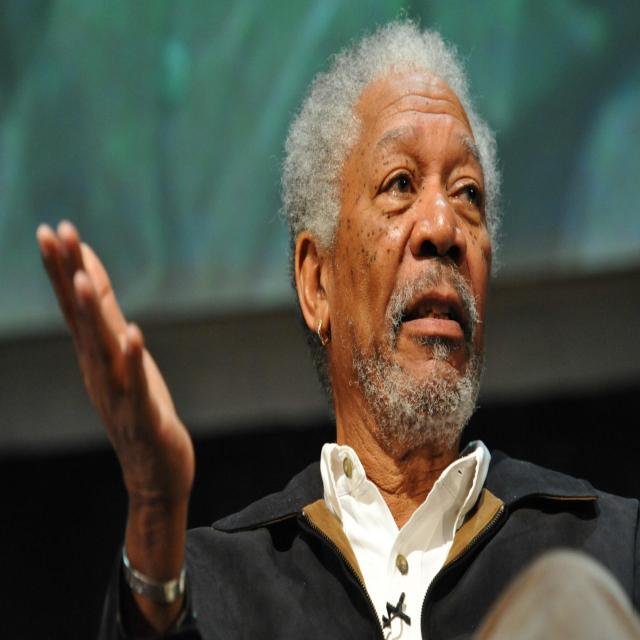no-earmuff: (285, 206, 341, 350)
